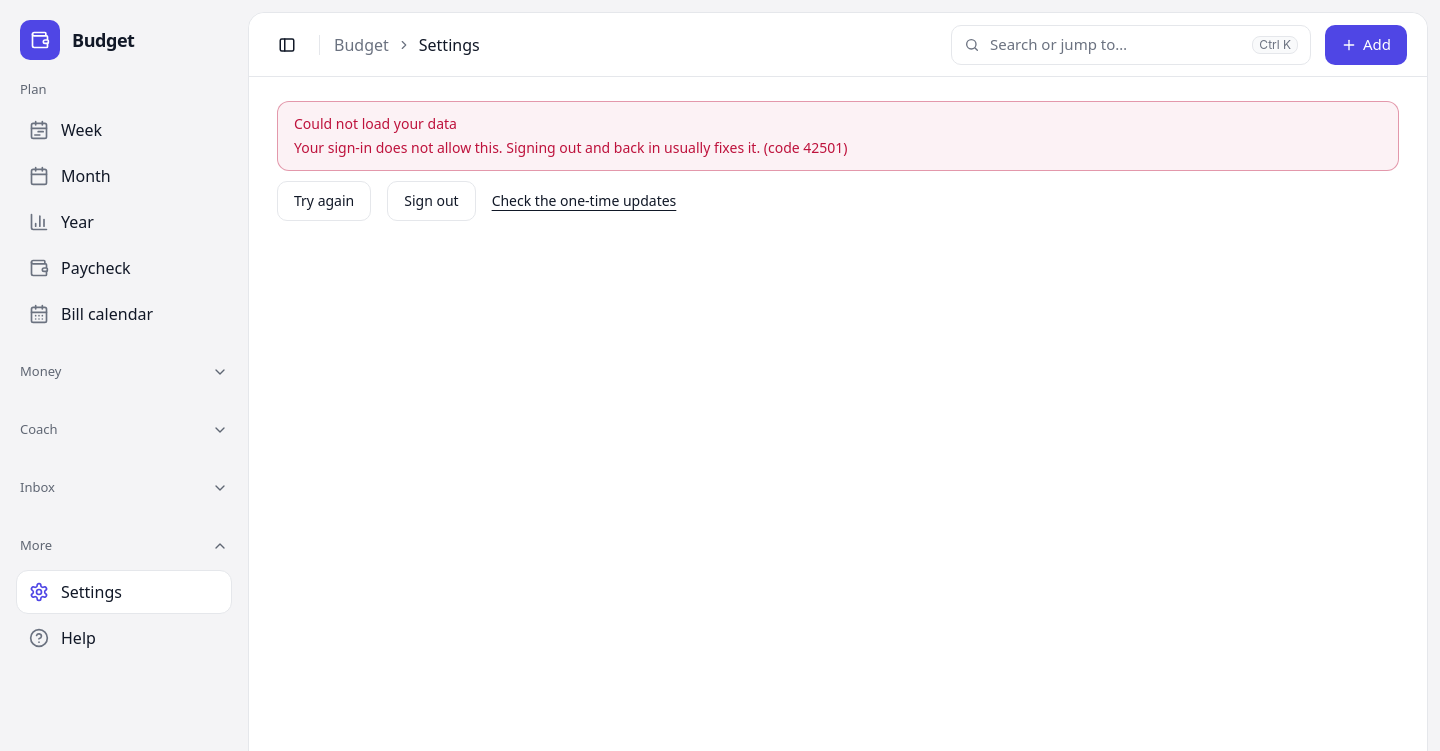
Test: Shell, before the shared data has loaded (FE-7) › says it could not load, with a way to try again that works
The width and height of the screenshot is (1440, 751).
expect the text "Could not load your data" is shown: met, box [294,114,457,133]
Click the button "Try again" at (324, 201), box [277,181,371,221]
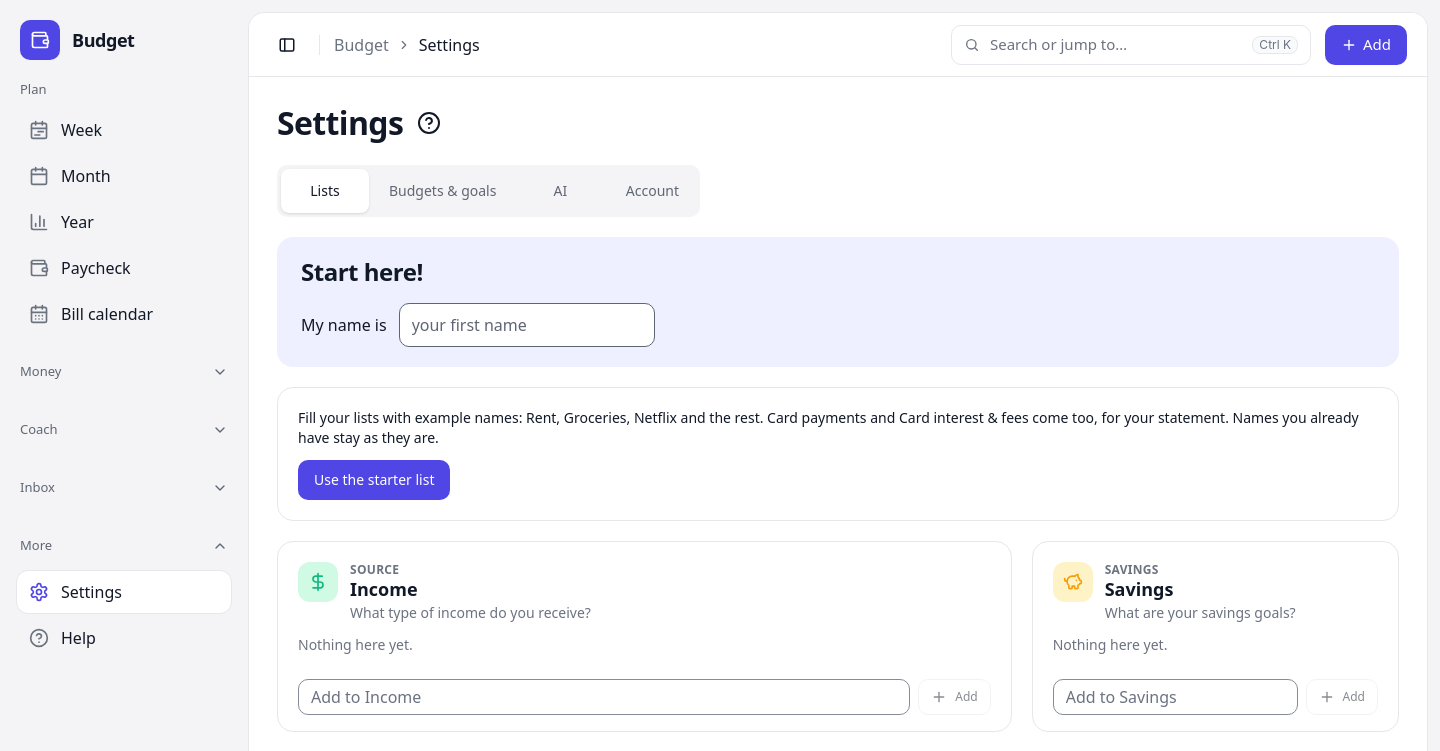
expect the heading "Settings" is shown: met, box [277,103,403,143]
expect the text "Could not load your data" is gone: met
